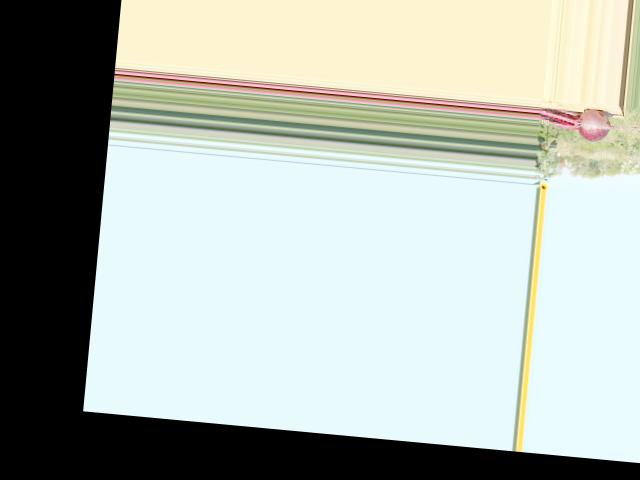beet: (536, 103, 640, 147)
